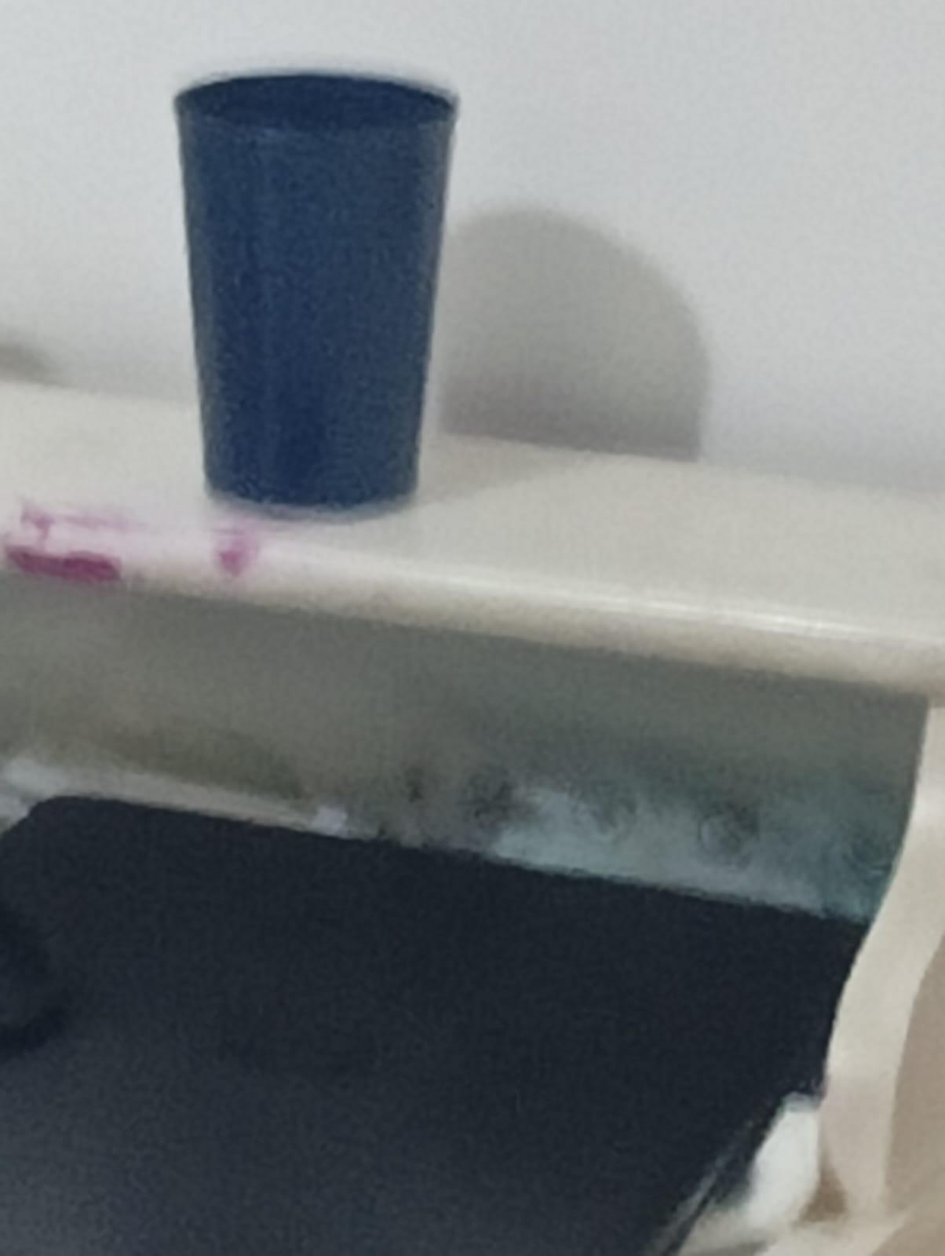cup: (176, 74, 456, 507)
